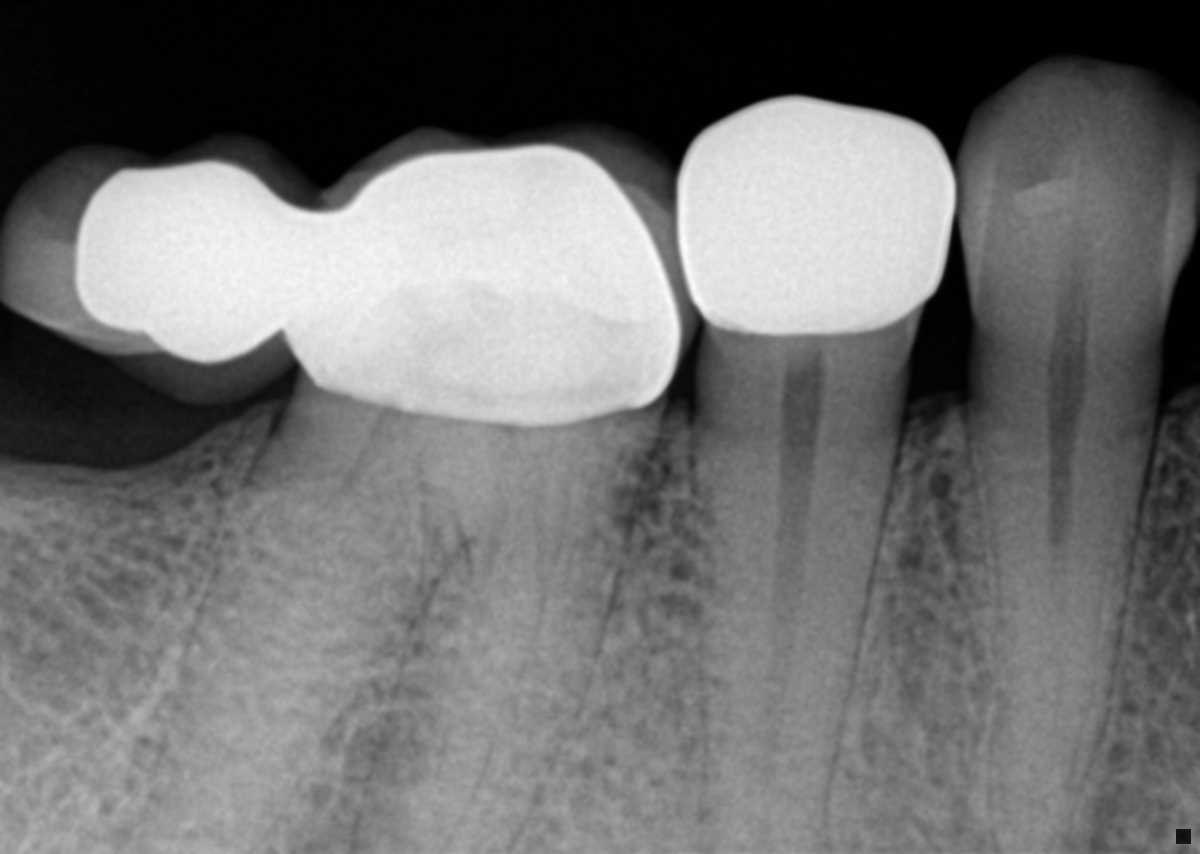Distal Root: (131, 374, 436, 854)
Main Canal: (758, 422, 817, 846), (1042, 416, 1082, 614)
Main Root: (696, 410, 901, 854), (968, 407, 1161, 849)
Mesial Root: (345, 400, 664, 854)
